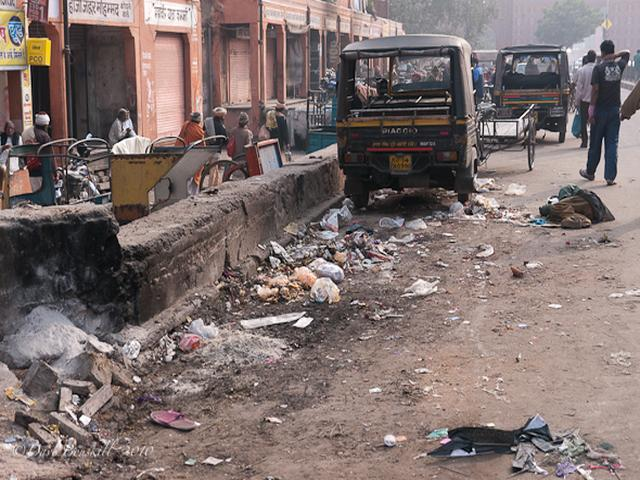garbage: (270, 229, 363, 298)
